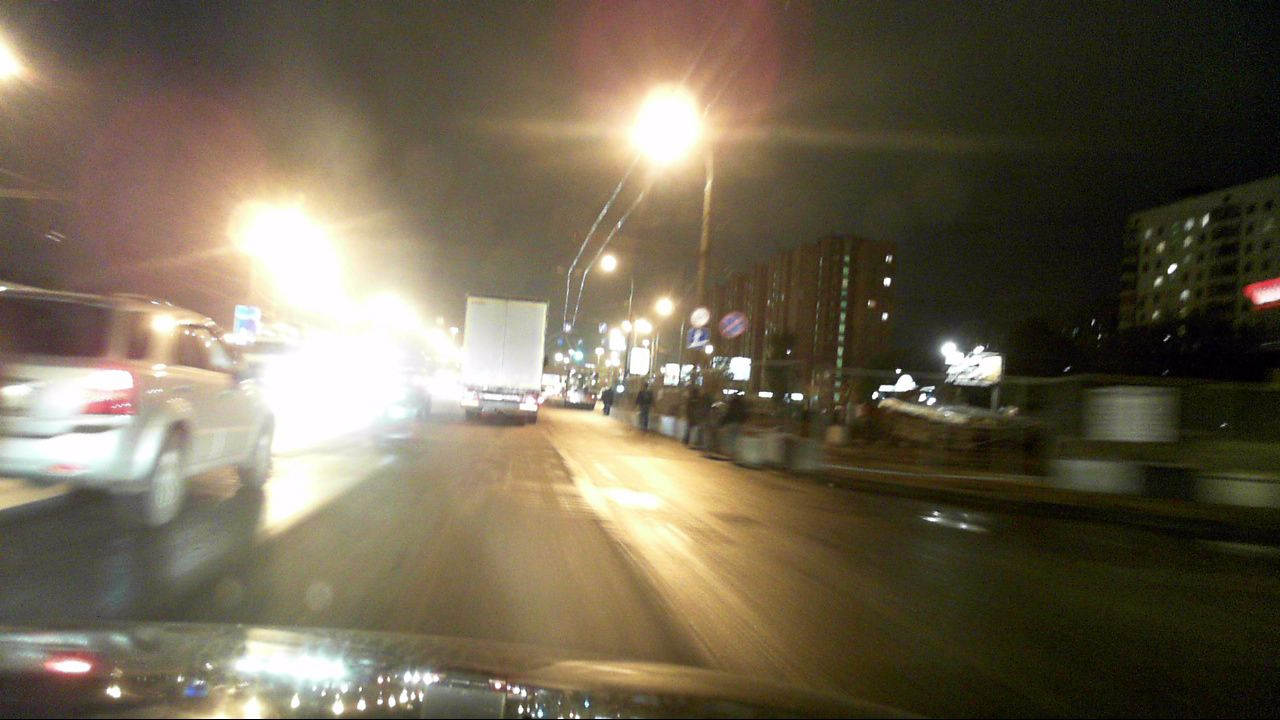No Parking: (720, 312, 747, 339)
